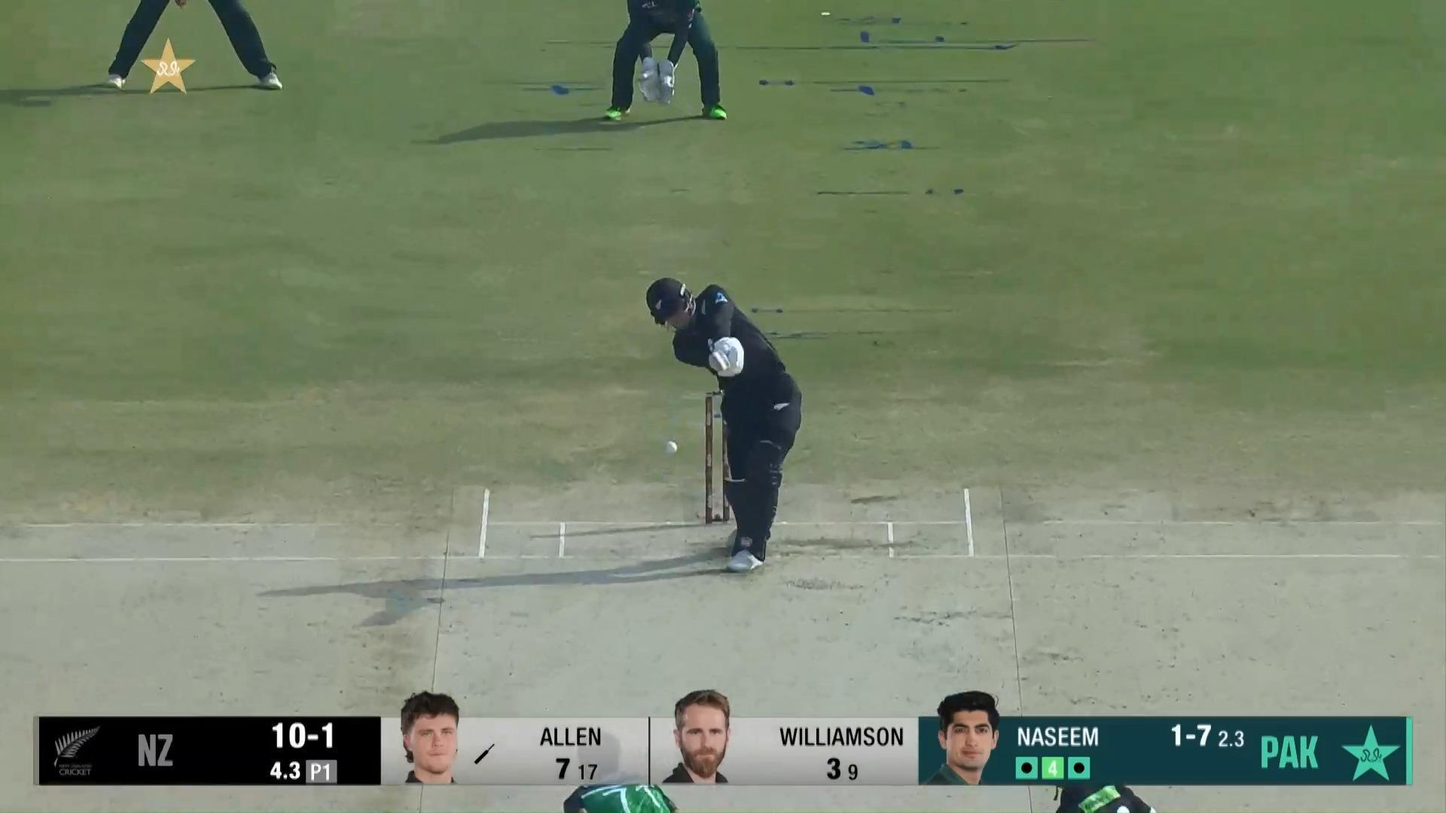BM 1: (645, 279, 803, 573)
BO: (561, 728, 681, 813)
